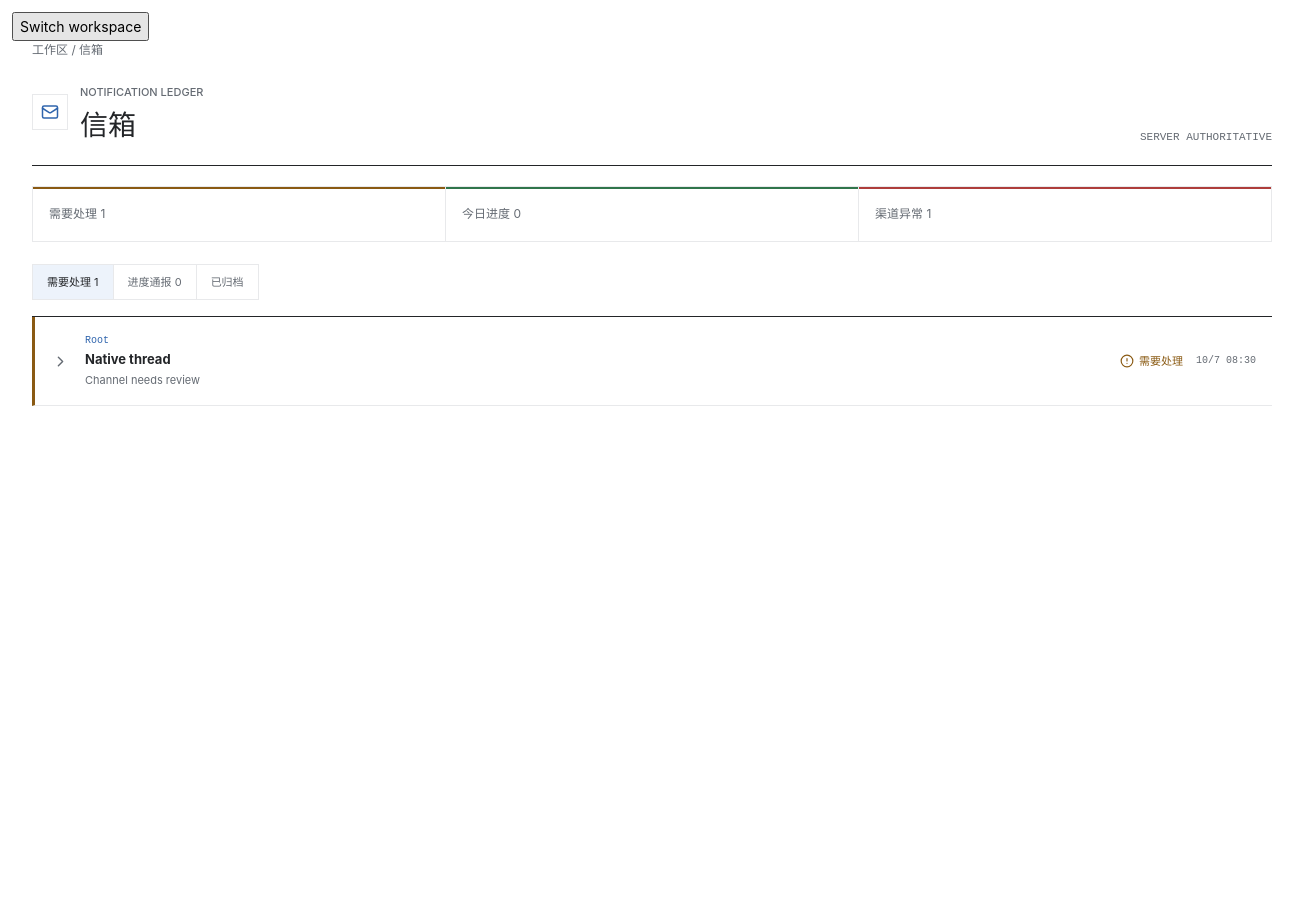
Test: actual native InboxPage › real native button archive maps legal version 4 with current user/CSRF
Check: the text "Native thread" is shown, box [85,351,171,367]
Click the button "Root Native thread Channel needs review 需要处理 10/7 08:30".
click(128, 359)  # box [35,317,1272,405]
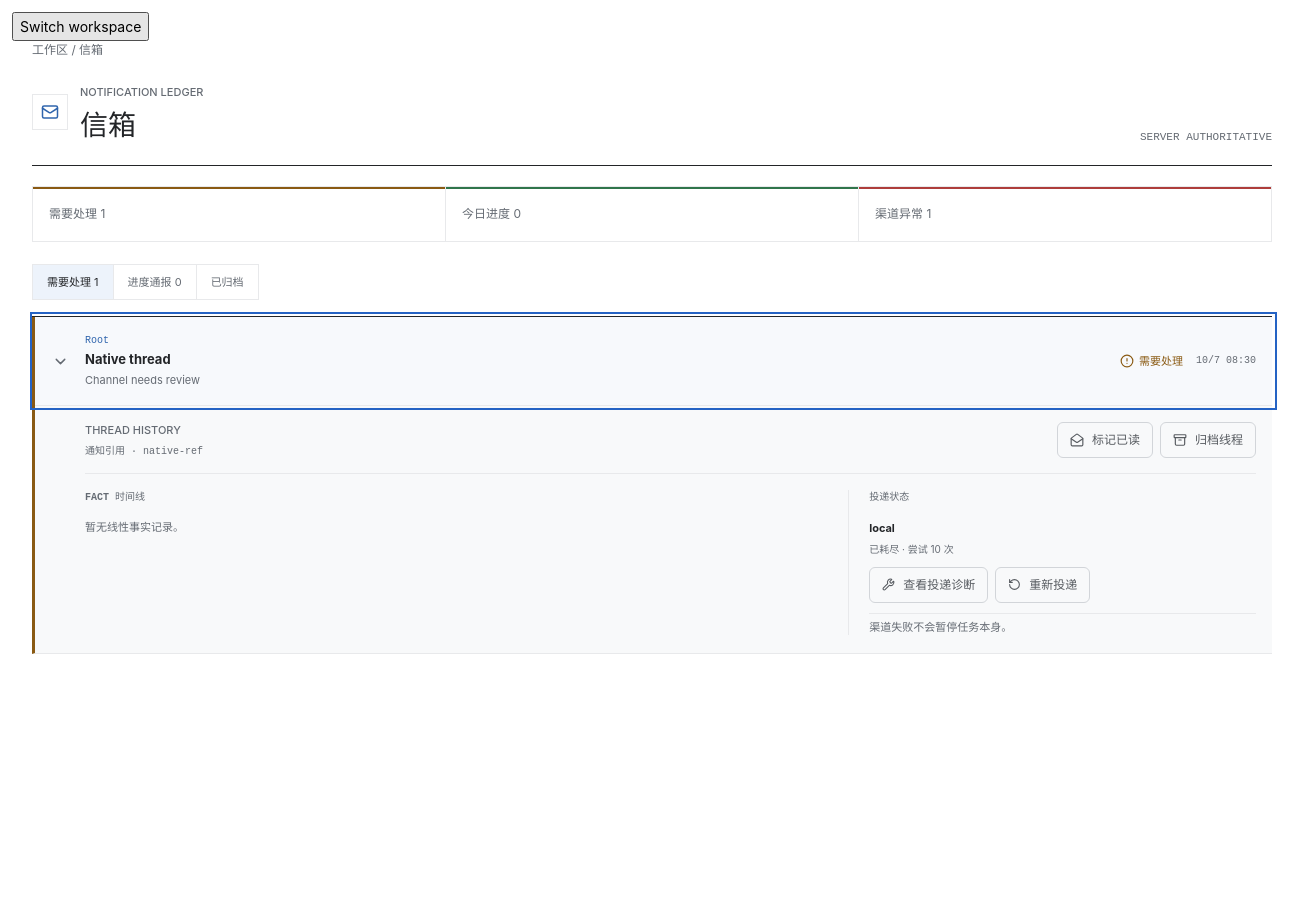
Check: the button "归档线程" is enabled
Click the button "归档线程".
click(1208, 440)  # box [1160,422,1256,458]
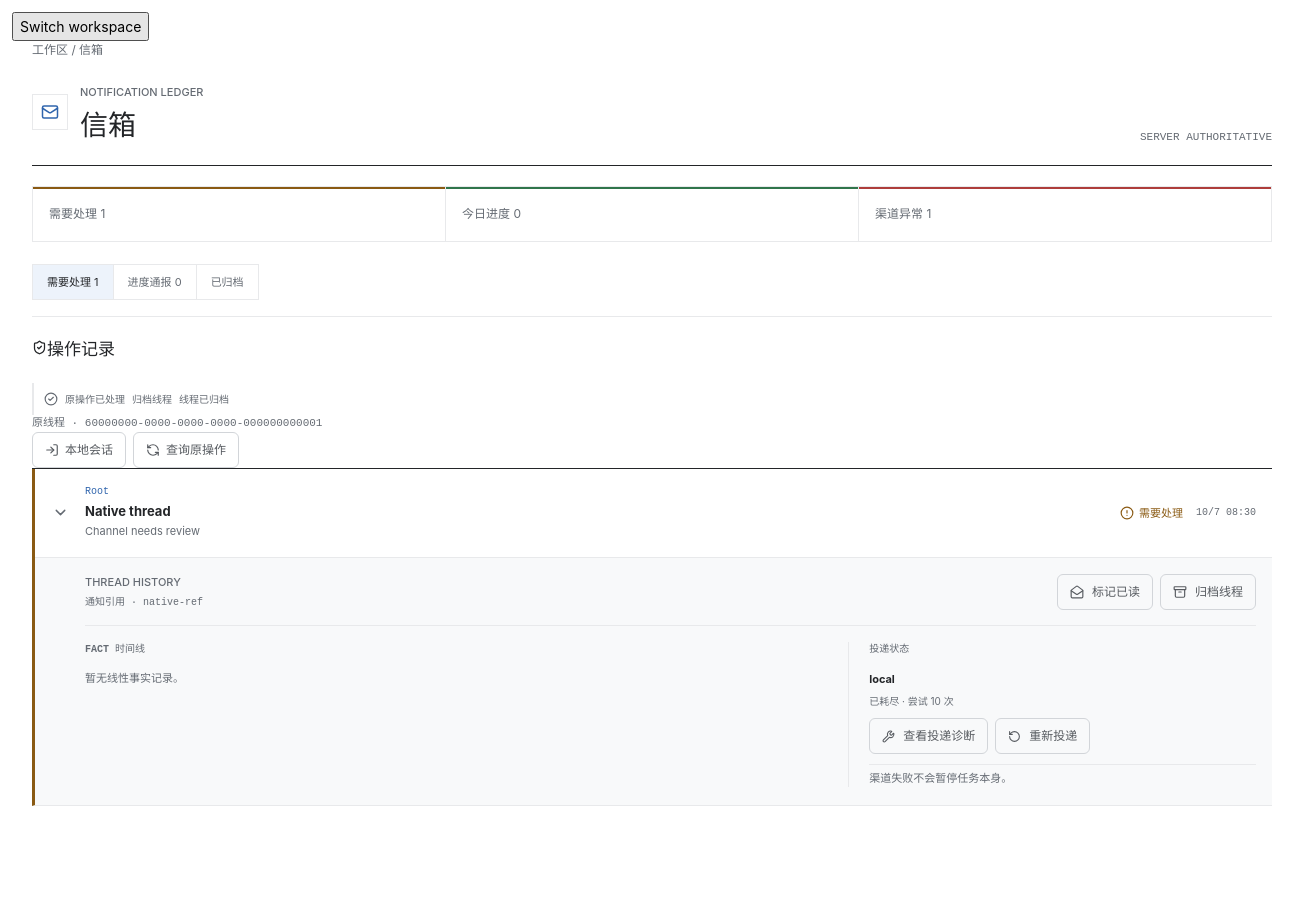
Check: the text "线程已归档" is shown, box [179,392,229,406]
